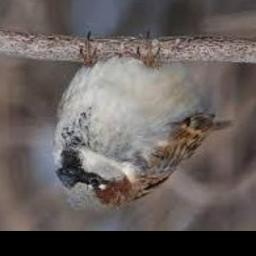Sparrow: (54, 32, 236, 212)
